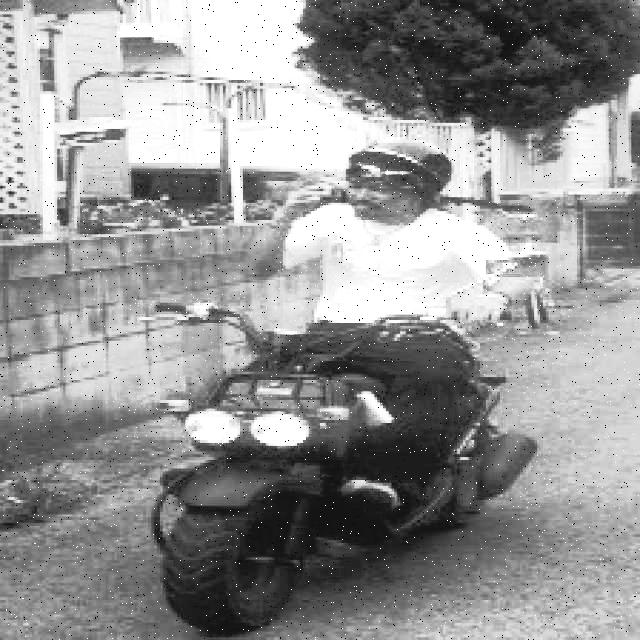Bike: (127, 309, 519, 615)
